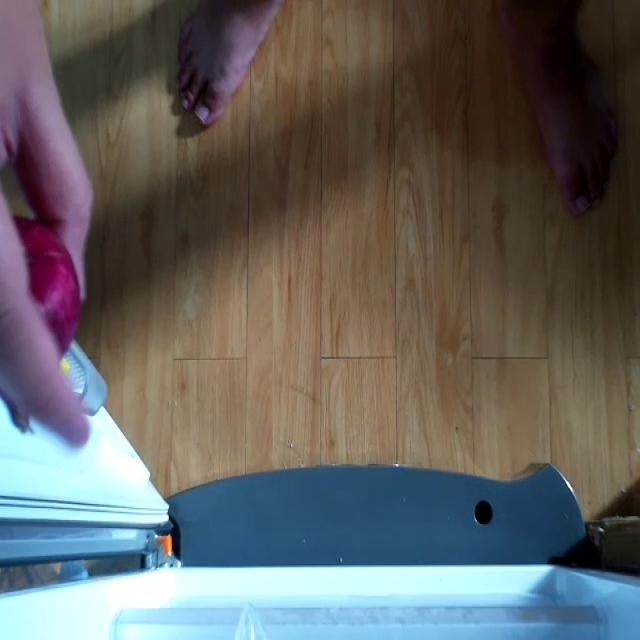onion: (0, 210, 86, 448)
